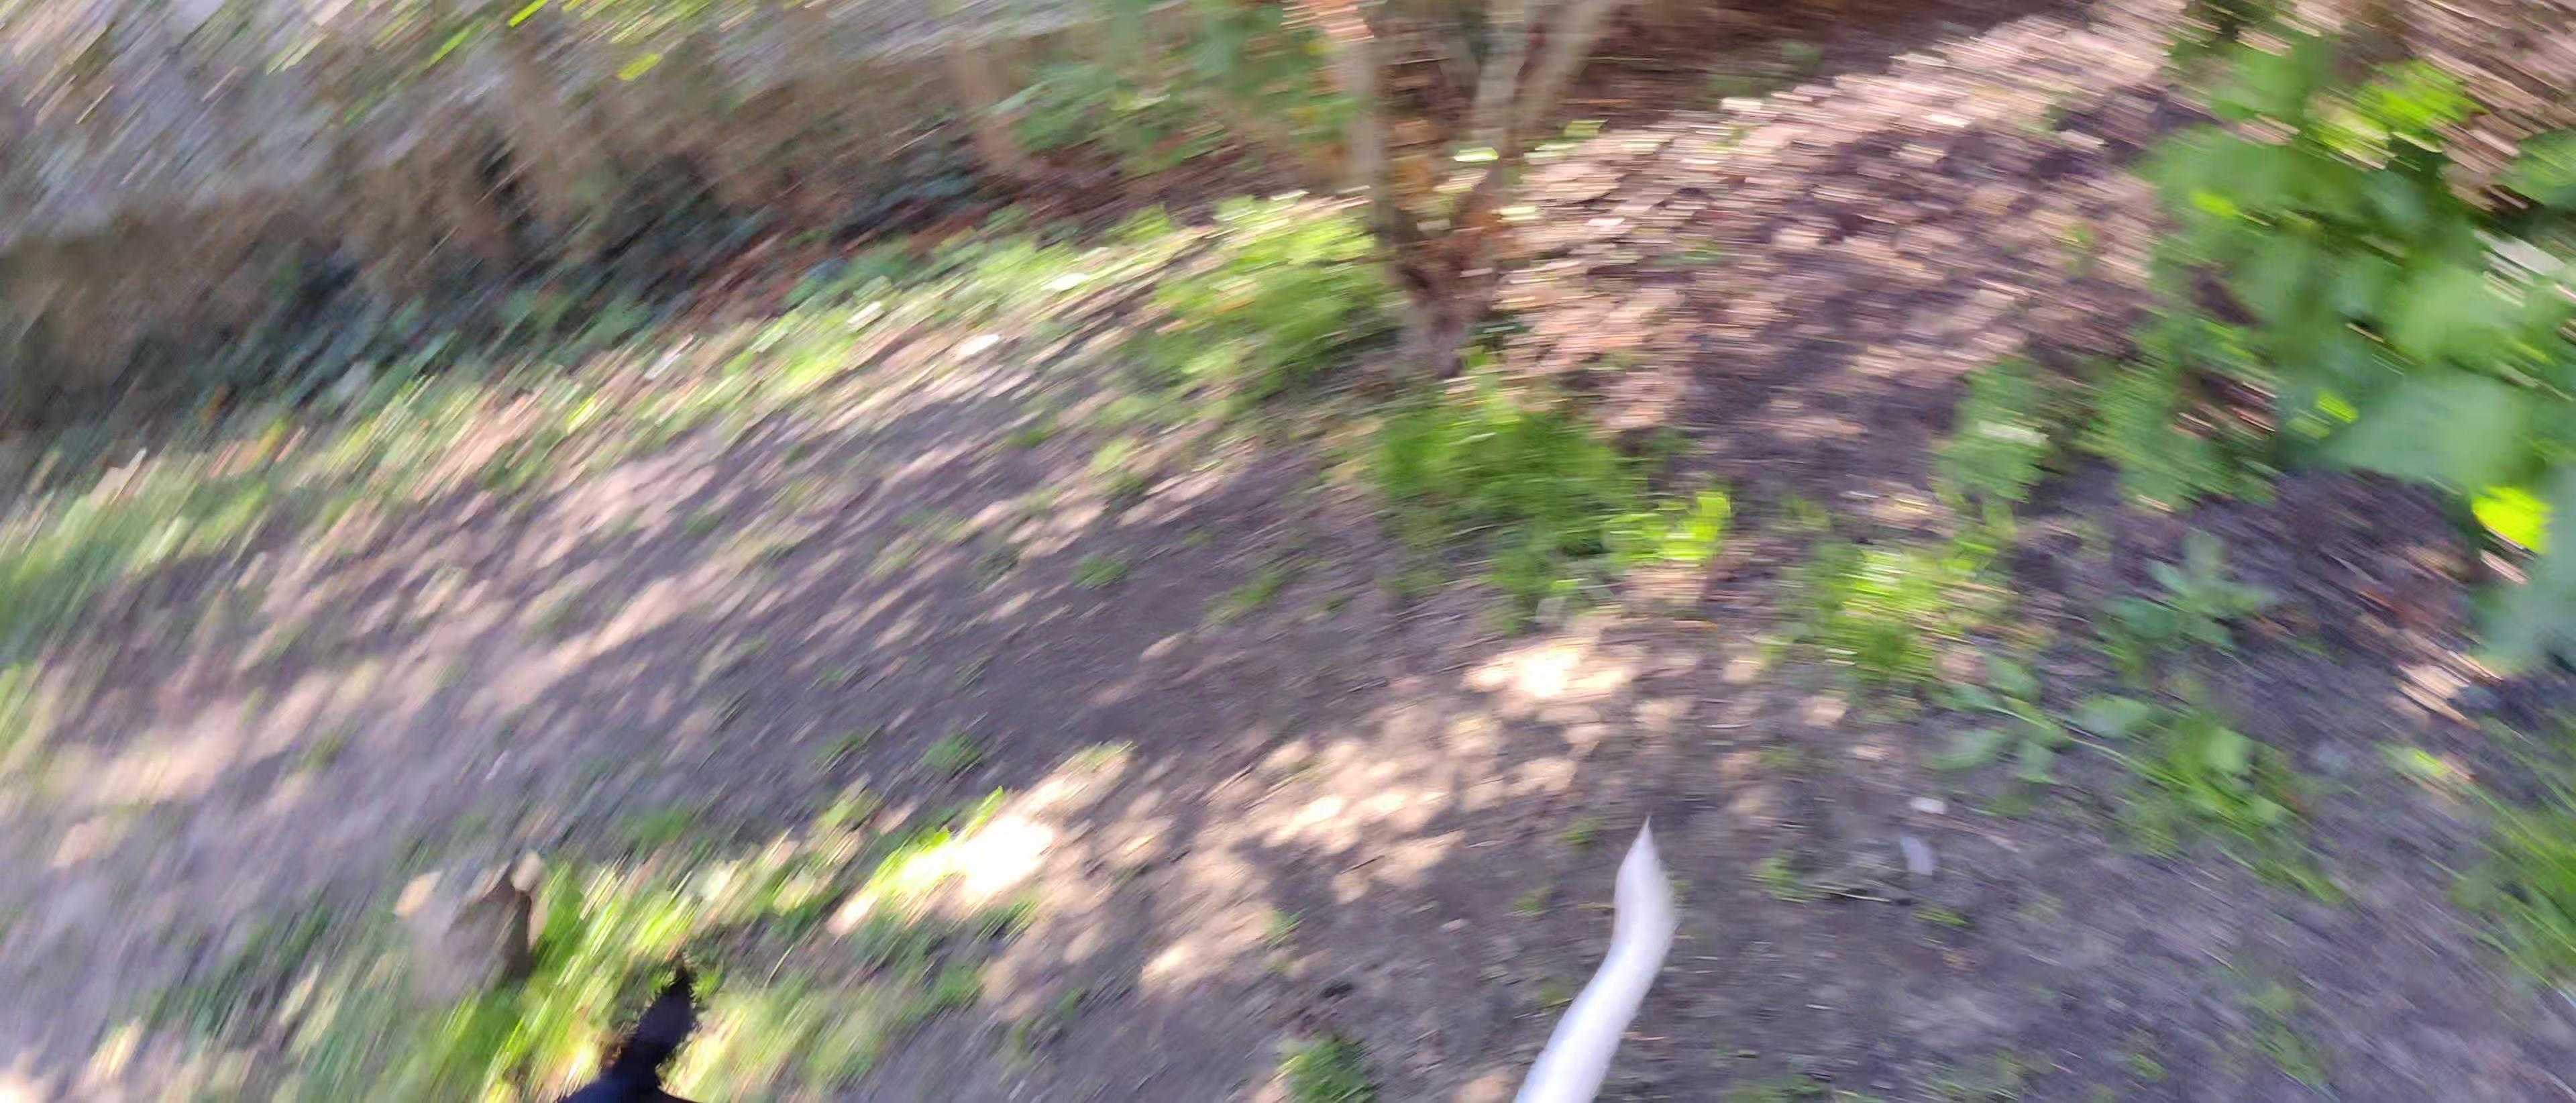Dog: (539, 804, 1686, 1103)
